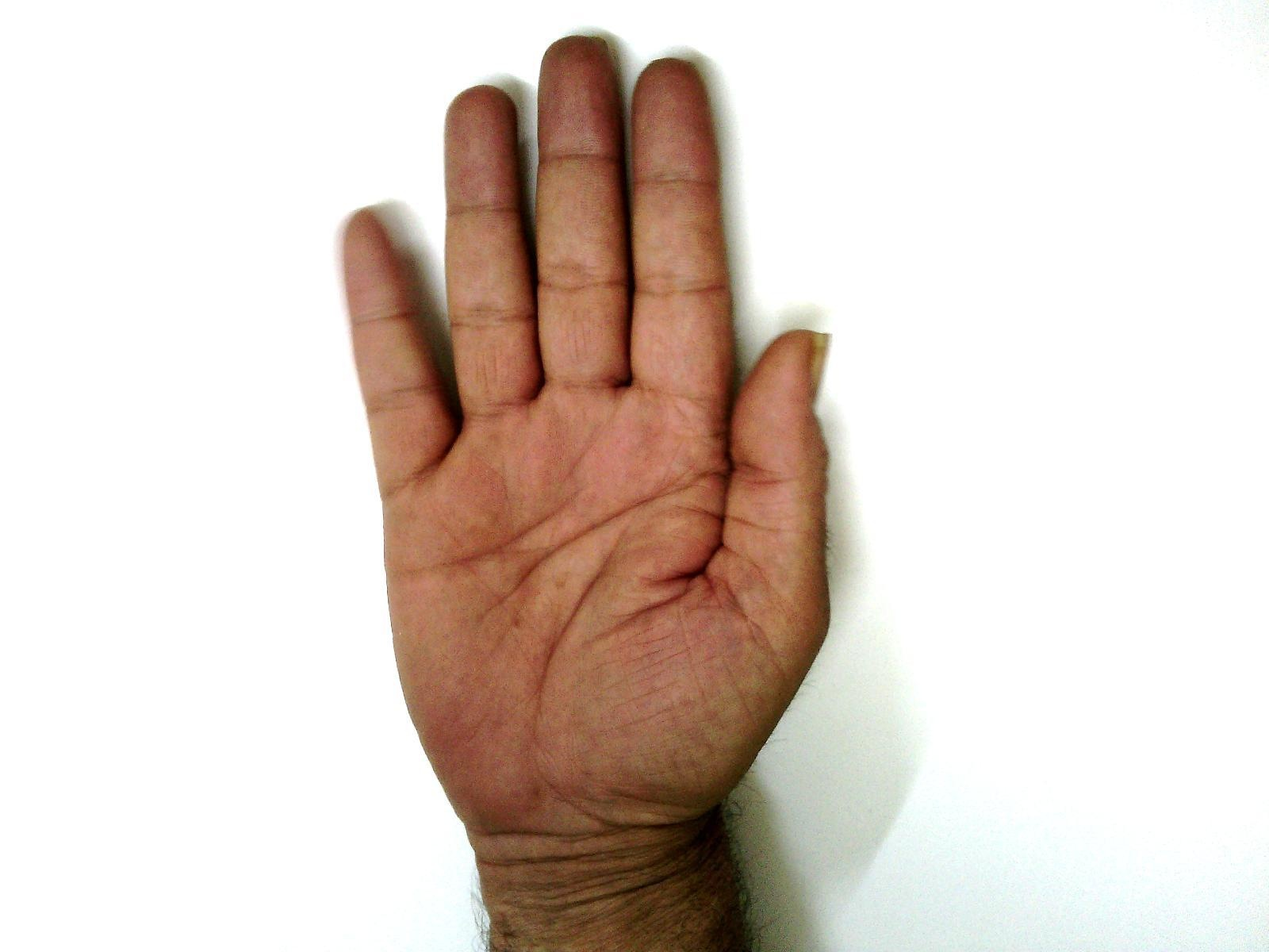open_palm: (339, 31, 835, 845)
